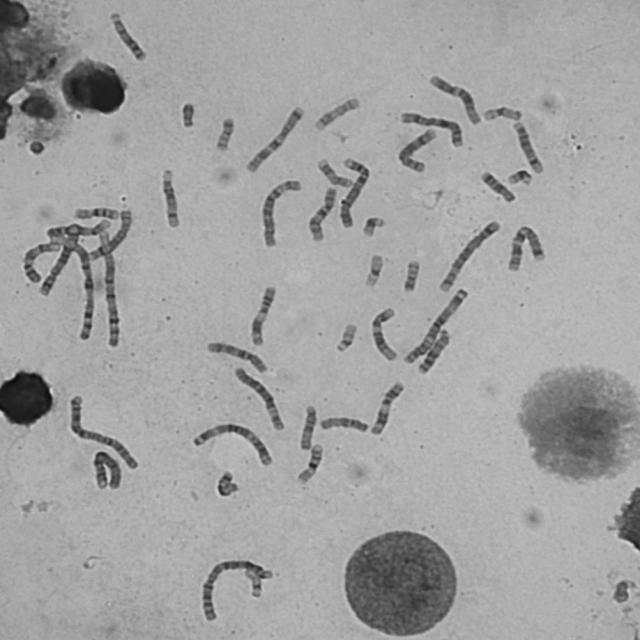A1: (47, 234, 95, 341), (96, 230, 125, 348)
A2: (64, 393, 141, 471), (194, 554, 274, 624)
A3: (403, 287, 469, 365), (187, 422, 274, 468)
B4: (338, 156, 370, 230), (87, 446, 125, 492)
B5: (436, 219, 502, 294), (36, 222, 84, 298)
C10: (204, 340, 270, 374), (305, 186, 338, 242)
C11: (369, 380, 405, 437), (248, 283, 277, 349)
C12: (427, 72, 483, 127), (367, 304, 400, 363)
C6: (233, 364, 286, 431), (256, 178, 302, 248)
C7: (246, 106, 306, 172), (506, 222, 546, 273)
C8: (87, 206, 133, 261), (394, 128, 438, 175)
C9: (21, 241, 62, 285), (45, 217, 111, 240)
D13: (108, 12, 149, 62), (415, 328, 451, 374)
D14: (156, 166, 184, 232), (512, 120, 546, 174)
D15: (298, 403, 319, 451), (318, 416, 369, 434)
E16: (296, 442, 324, 484), (71, 203, 120, 223)
E17: (312, 97, 361, 131), (316, 158, 354, 189)
E18: (480, 170, 517, 204), (213, 470, 243, 498)
F19: (362, 252, 386, 288), (482, 105, 524, 123)
F20: (213, 116, 238, 152), (400, 258, 423, 294)
G21: (506, 167, 534, 188), (360, 216, 386, 237)
G22: (334, 320, 358, 352), (242, 567, 264, 599)
X: (398, 111, 466, 149)
Y: (179, 101, 197, 129)
